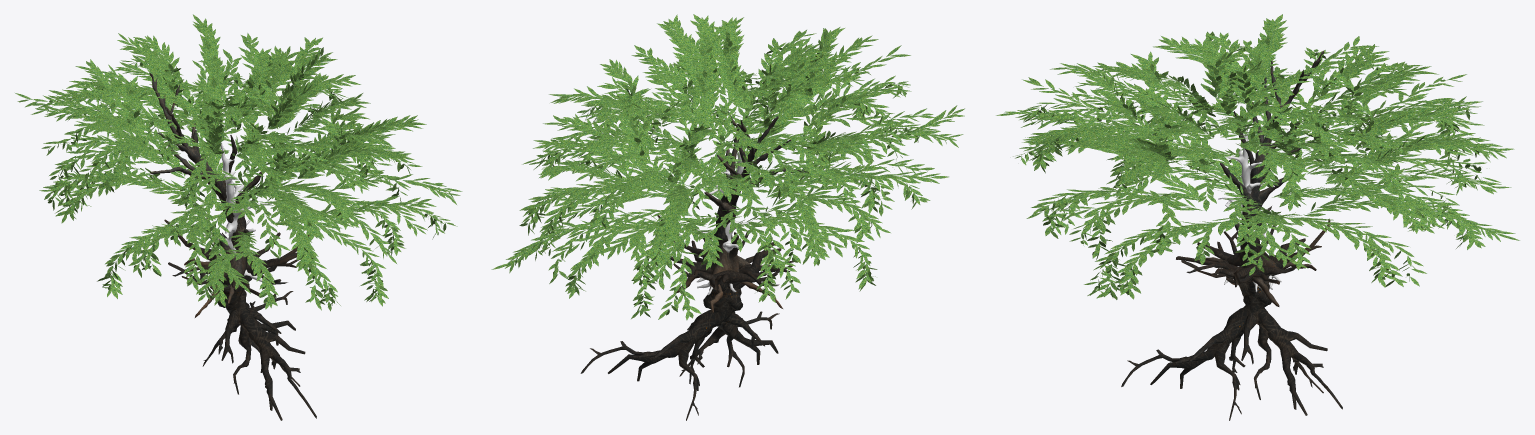
Rendered from mangle.fbx.
The picture shows the model from 3 angles, left to right: view 1: azimuth 30°, elevation 25°; view 2: azimuth 150°, elevation 25°; view 3: azimuth 270°, elevation 25°; orthographic projection. The views are drawn at different scales.
Visible parts, largest first — view 1: leaves, tree2_tree2_0.001, tree3, tree2, tree1; view 2: leaves, tree2, tree2_tree2_0.001, tree3, tree1; view 3: leaves, tree2, tree2_tree2_0.001, tree3, tree1.
Part boxes in pixels (x1,y1,x2,y2): leaves: [15, 14, 462, 311]; tree2_tree2_0.001: [168, 232, 316, 420]; tree3: [149, 73, 261, 317]; tree2: [164, 219, 298, 372]; tree1: [204, 142, 271, 281]; leaves: [491, 14, 964, 320]; tree2: [580, 230, 781, 420]; tree2_tree2_0.001: [657, 215, 793, 387]; tree3: [676, 115, 808, 312]; tree1: [696, 139, 748, 294]; leaves: [996, 14, 1519, 299]; tree2: [1181, 218, 1342, 415]; tree2_tree2_0.001: [1121, 225, 1305, 420]; tree3: [1205, 50, 1324, 306]; tree1: [1218, 124, 1281, 292].
Size of the model in its own units: 752 by 694 by 980.
Materials: 4 (3 with a texture image).
